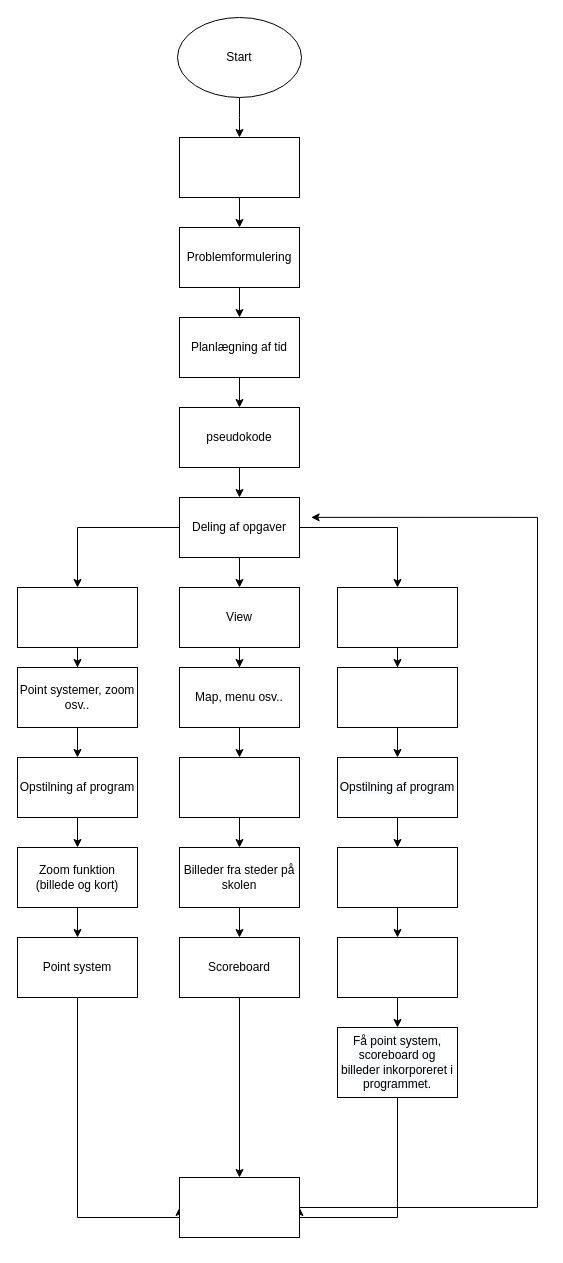
This 563x1263 diagram has some shape labels left out. Each missing label, with the centre of its shape:
Afbildning af kort: [239,787]
Controller: [397,617]
Få kortet inkorporeret i programmet.: [397,877]
Få zoom funktionen inkorporeret i programmet.: [397,967]
Ide til program: [239,167]
Model: [77,617]
Sammensætte model og view.: [397,697]
Test: [239,1207]
